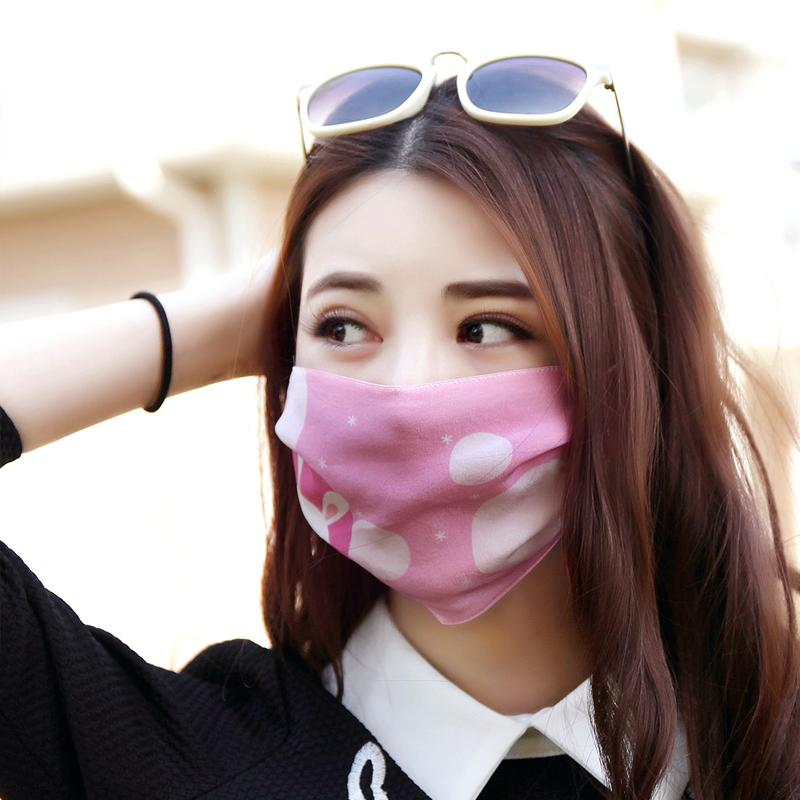OK: (264, 250, 607, 593)
